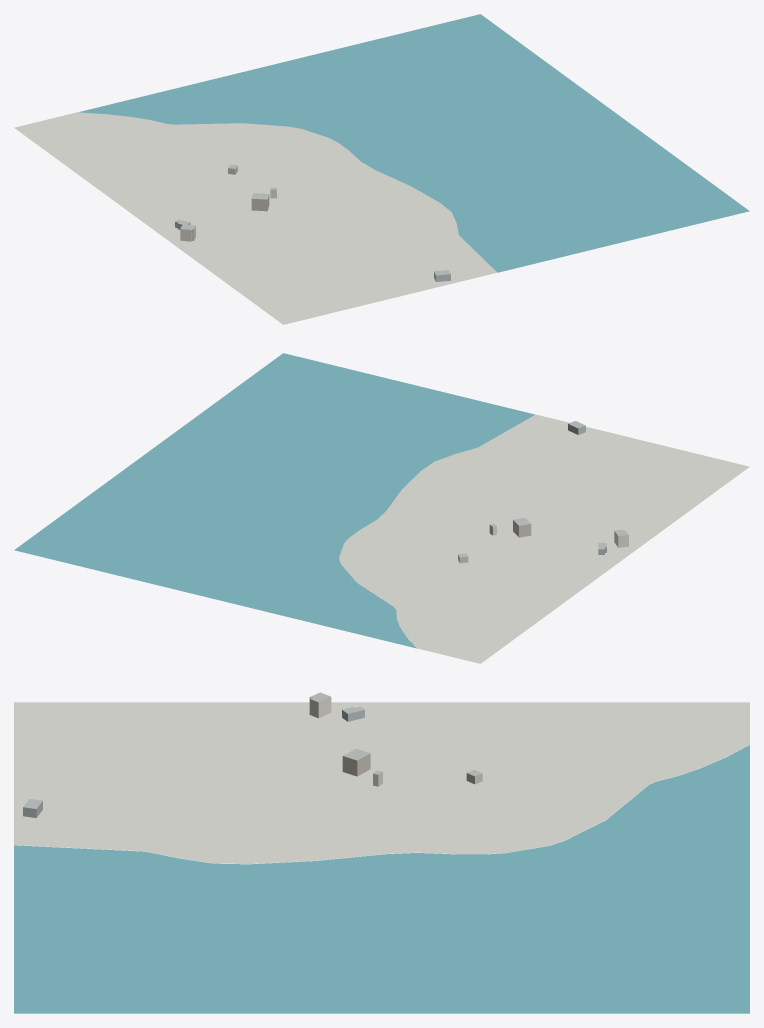
3 views of the same model, one above another, from view 1: azimuth 30°, elevation 25°; view 2: azimuth 150°, elevation 25°; view 3: azimuth 270°, elevation 25° (orthographic). The views are drawn at different scales.
Parts seen in each view (by area): view 1: city; view 2: city; view 3: city.
Boxes of the visible parts, box(x1,y1,x2,y2) form: city: box(14, 14, 749, 324); city: box(14, 353, 749, 663); city: box(14, 692, 749, 1013).
Size of the model in its own units: 500 by 12.18 by 500.
